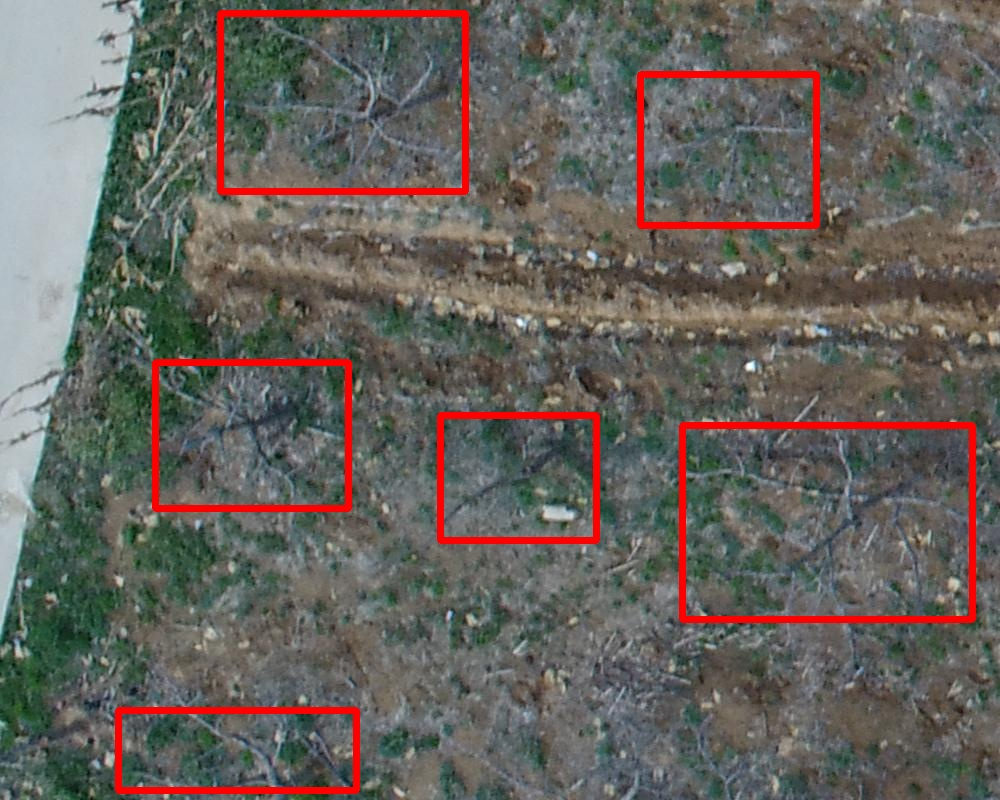apple: (682, 425, 972, 619), (220, 13, 465, 191), (155, 362, 348, 508), (640, 74, 816, 225), (440, 415, 596, 540), (118, 710, 356, 790)
